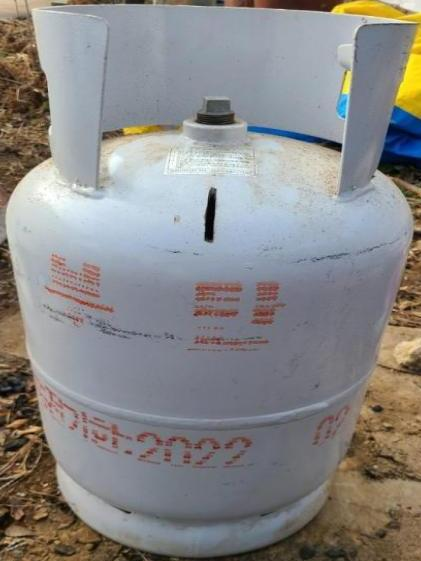cylinder: (1, 1, 421, 561)
